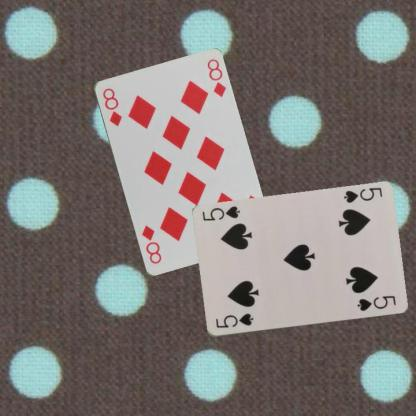5s: (341, 185, 384, 204), (212, 311, 254, 330)
8d: (99, 85, 123, 128)
